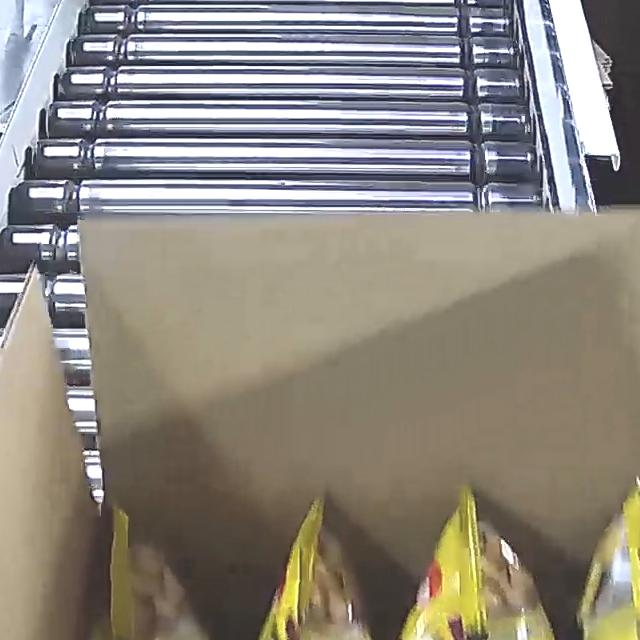salted: (77, 472, 640, 640)
